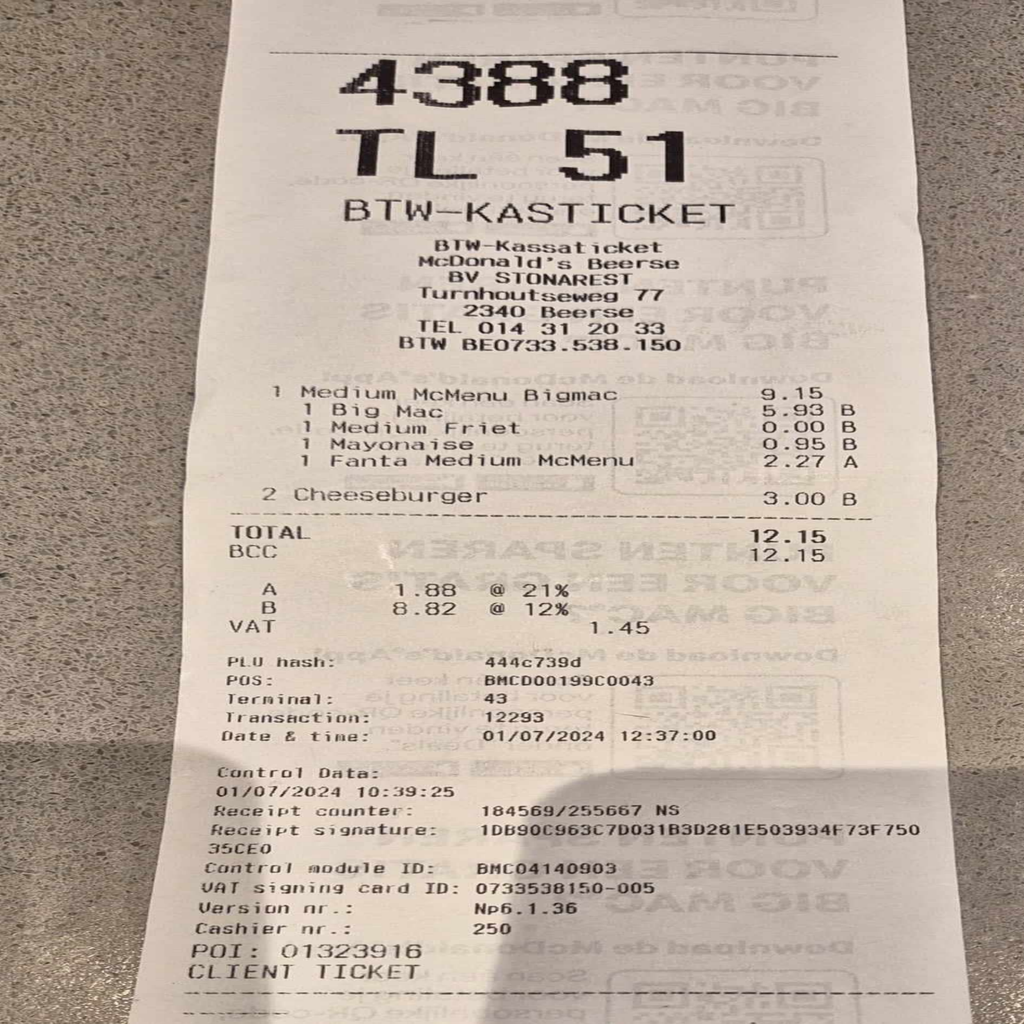recipt: (126, 0, 971, 1018)
